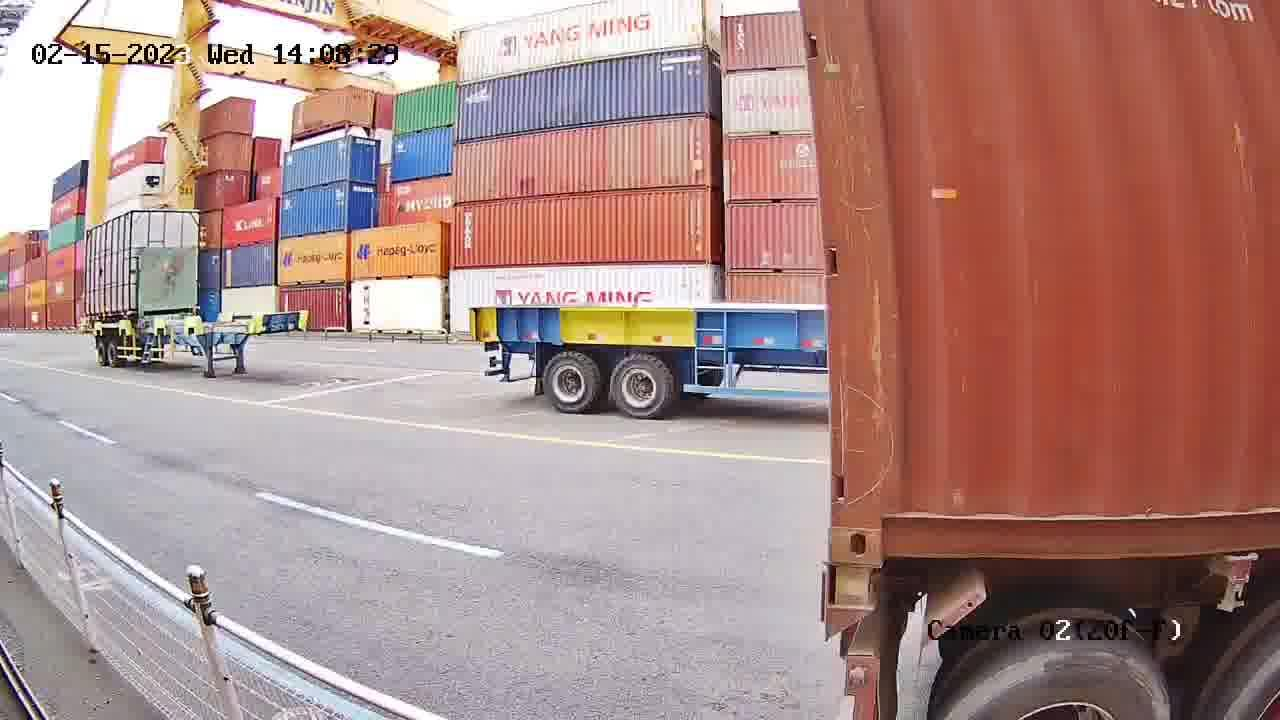Cone: (823, 565, 884, 609)
Hole_L: (825, 463, 952, 560)
Tire: (952, 650, 1169, 716), (1201, 625, 1275, 714)
